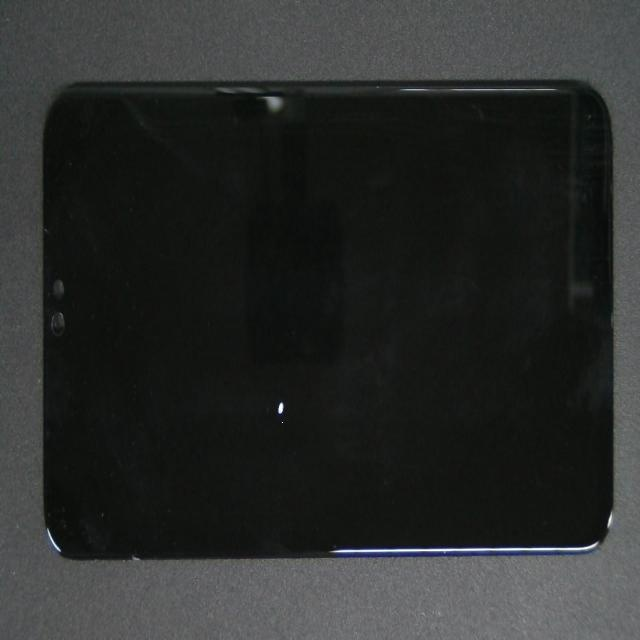stain: (122, 191, 401, 623)
